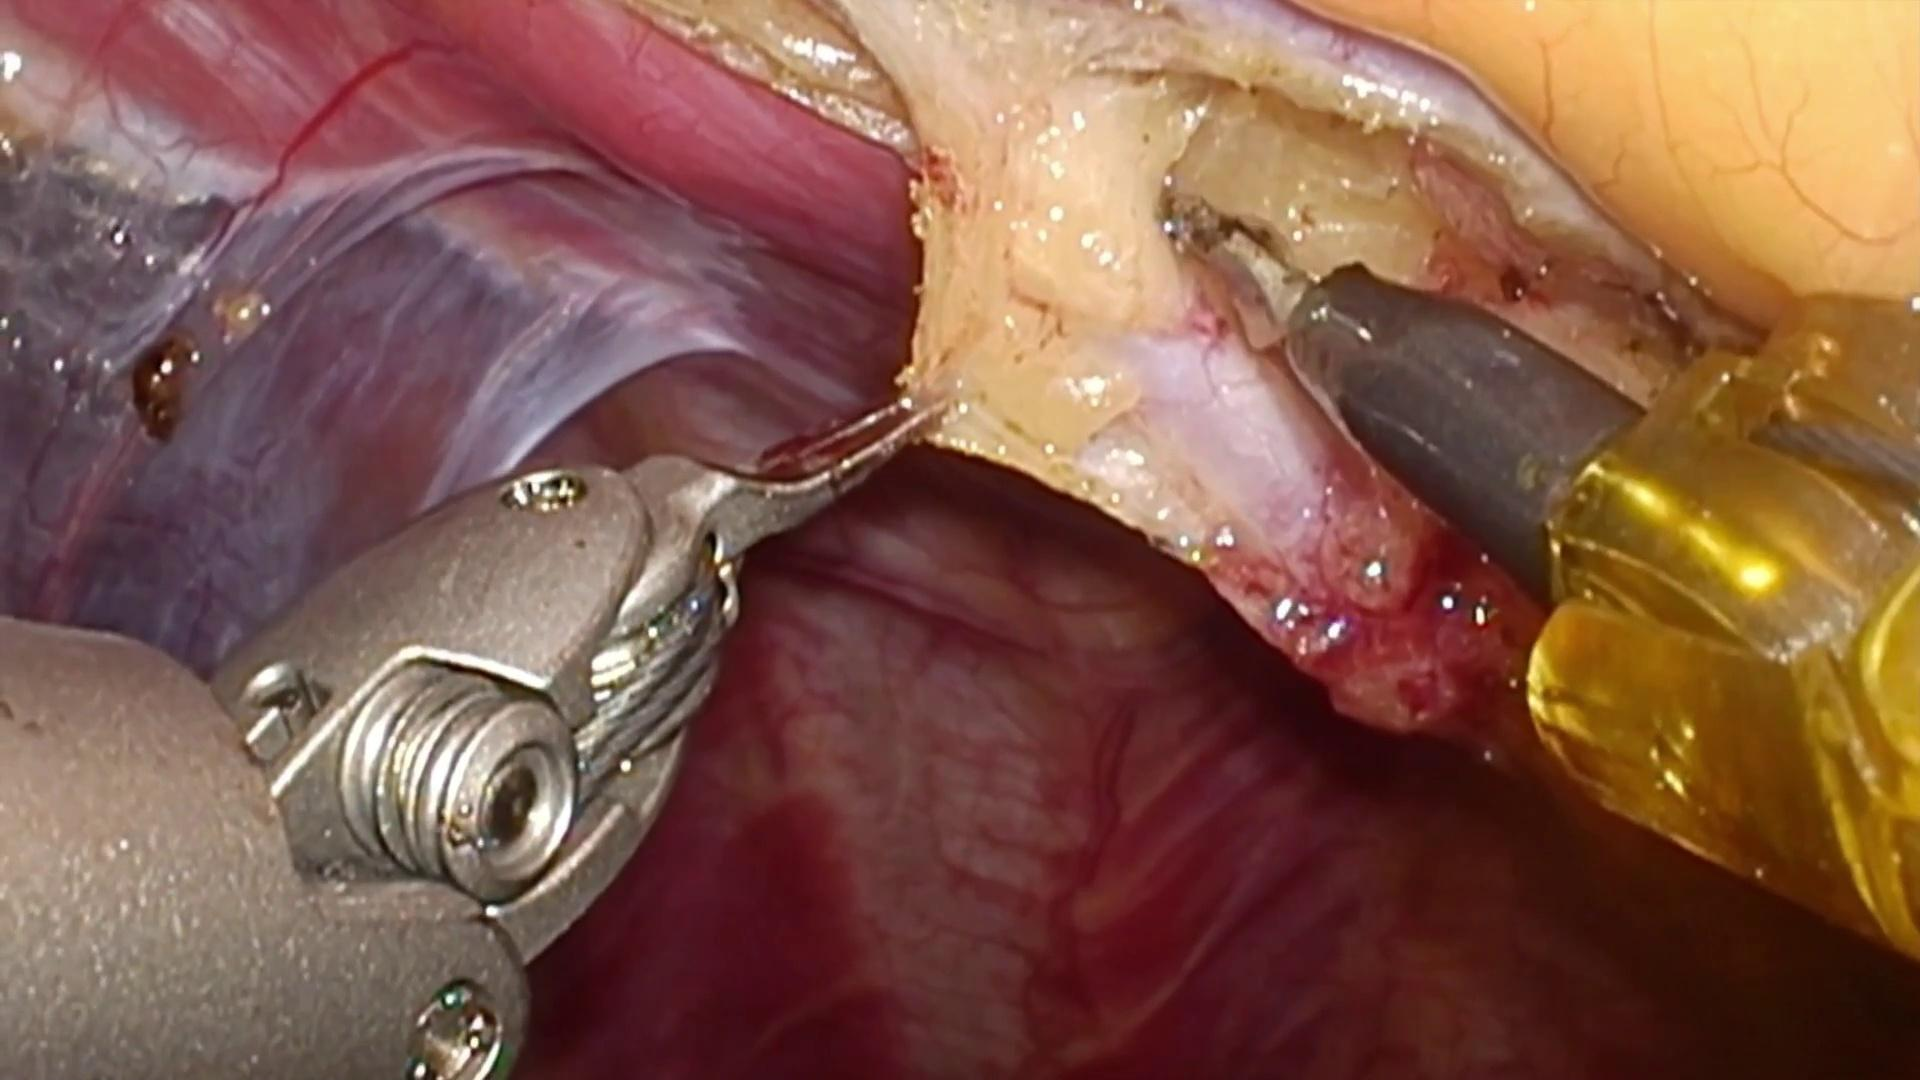Cautery_Spatula: (1162, 202, 1652, 604)
Debakey: (650, 367, 949, 559)
